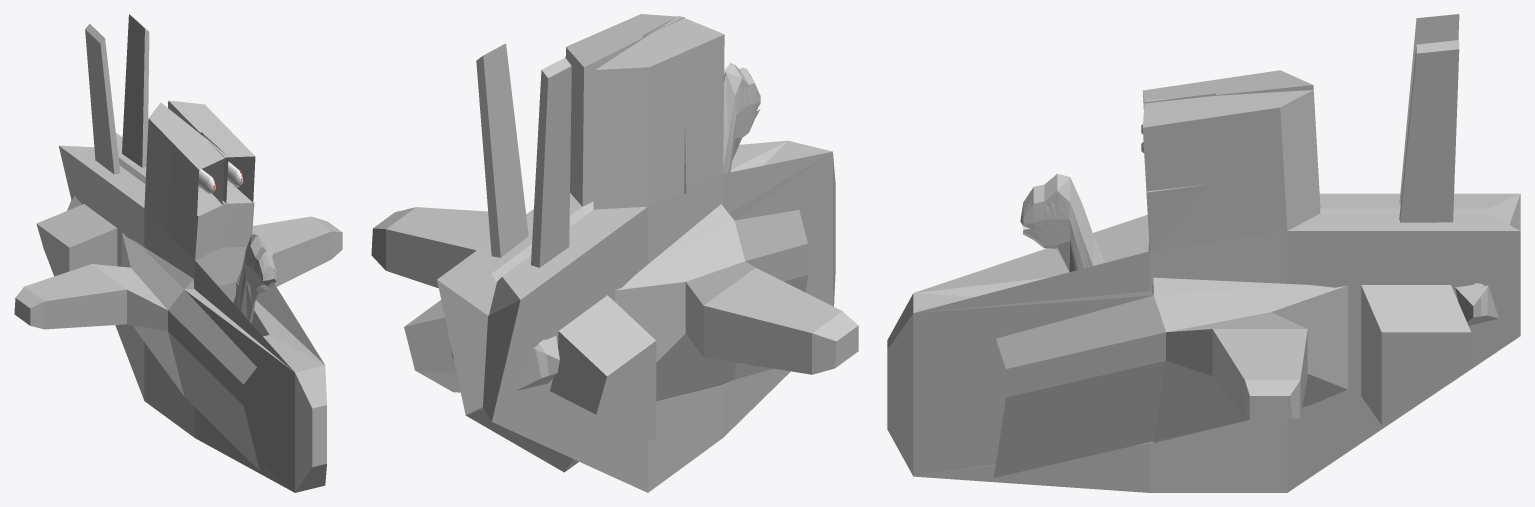
The model's file is tower-avion2.fbx.
3 views of the same model, side by side, from view 1: azimuth 30°, elevation 25°; view 2: azimuth 150°, elevation 25°; view 3: azimuth 270°, elevation 25° (orthographic). The views are drawn at different scales.
Visible parts, largest first — view 1: Cube; view 2: Cube; view 3: Cube.
Part boxes in pixels (x1=…): Cube: x1=14, y1=14, x2=342, y2=492; Cube: x1=371, y1=14, x2=858, y2=492; Cube: x1=887, y1=14, x2=1520, y2=492.
Bounding box in the file's own units: 577 × 581 × 745.
